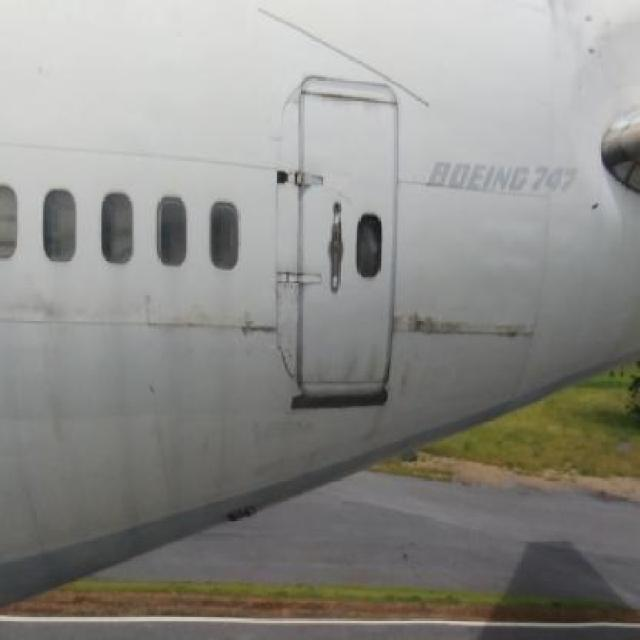Rust: (541, 0, 632, 72), (303, 81, 405, 130), (228, 293, 292, 362), (400, 293, 472, 349), (304, 344, 379, 387), (490, 297, 544, 355)
Scartch: (10, 268, 88, 449), (242, 398, 320, 474), (400, 358, 466, 418)
